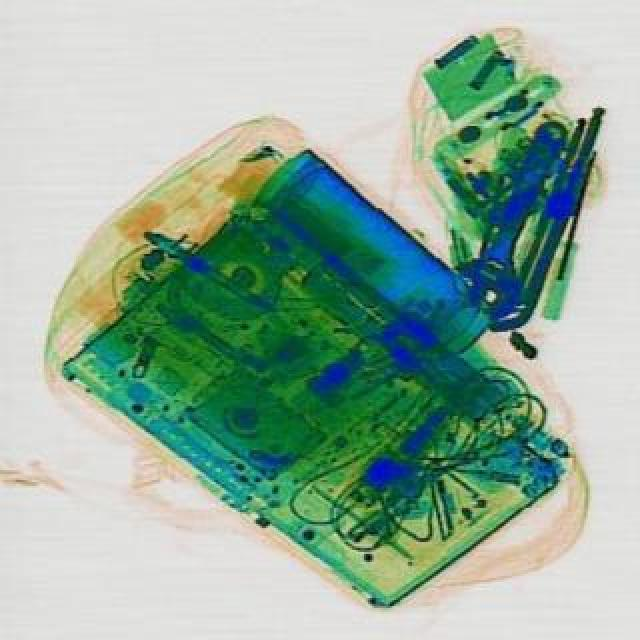scissors: (436, 110, 584, 326)
